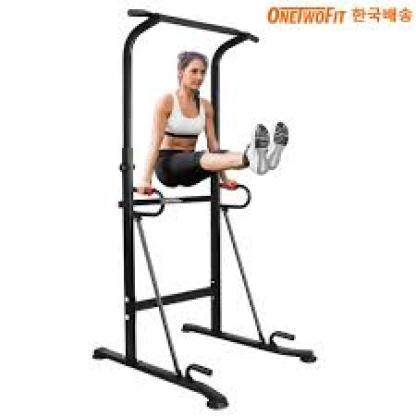chinning dipping: (92, 26, 317, 412)
